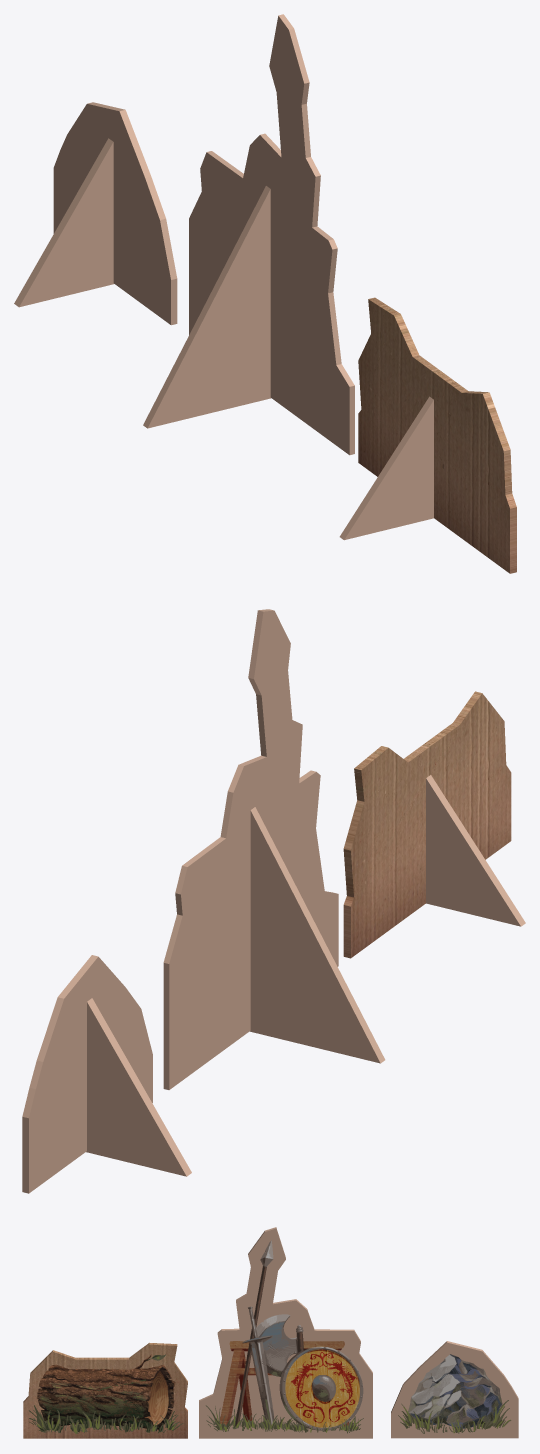
File: geitjes obstakels.fbx
The picture shows the model from 3 angles, top to bottom: view 1: azimuth 30°, elevation 25°; view 2: azimuth 150°, elevation 25°; view 3: azimuth 270°, elevation 25°; orthographic projection. The views are drawn at different scales.
Visible parts, largest first — view 1: Plane, Plane.004, Plane.002, Plane.001, Plane.003, Plane.005; view 2: Plane, Plane.004, Plane.002, Plane.001, Plane.003, Plane.005; view 3: IMG_1645, Plane, IMG_1647, IMG_1646, Plane.004, Plane.001.
Boxes of the visible parts, x1,y1,x2,y2 form: Plane: [189, 14, 354, 455]; Plane.004: [358, 297, 516, 573]; Plane.002: [143, 186, 270, 428]; Plane.001: [53, 102, 177, 325]; Plane.003: [14, 138, 113, 307]; Plane.005: [339, 396, 433, 540]; Plane: [163, 609, 338, 1089]; Plane.004: [343, 691, 511, 958]; Plane.002: [250, 807, 385, 1063]; Plane.001: [22, 955, 152, 1193]; Plane.003: [86, 998, 191, 1176]; Plane.005: [426, 775, 525, 926]; IMG_1645: [205, 1240, 363, 1433]; Plane: [199, 1227, 372, 1438]; IMG_1647: [29, 1354, 184, 1433]; IMG_1646: [398, 1354, 511, 1433]; Plane.004: [23, 1342, 187, 1438]; Plane.001: [391, 1341, 518, 1438].
Size of the model in its own units: 127 by 366 by 804.
